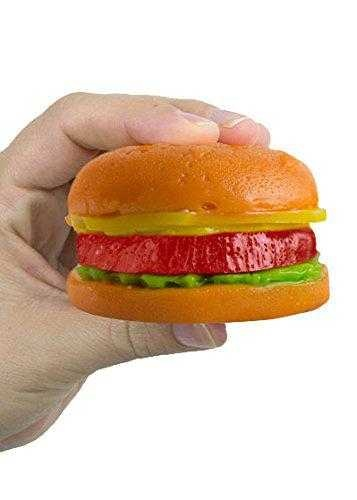hamburger: (68, 141, 327, 325)
